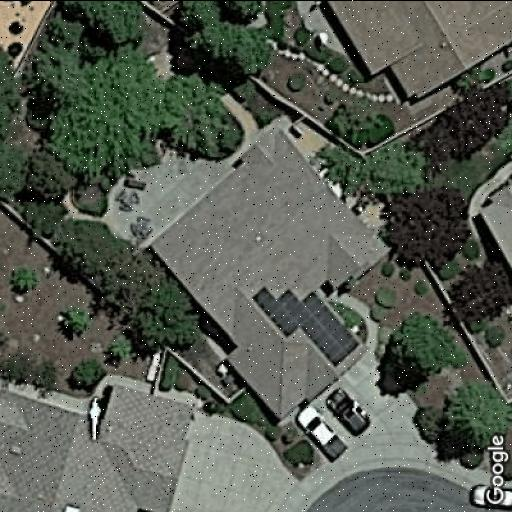solar-panel: (254, 284, 360, 366)
